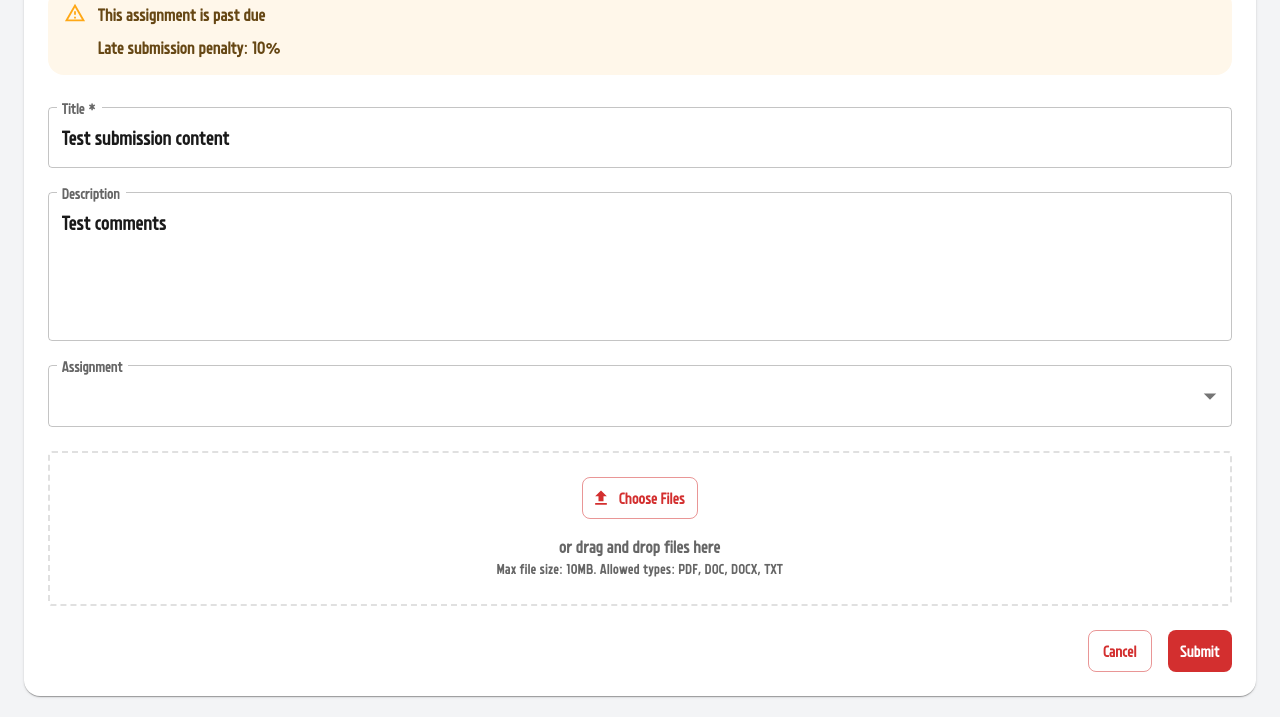
Test case: SubmissionForm › displays error message when submission fails
This screenshot has width=1280, height=717.
(page scrolled)
# Simulate an error
What coordinates should you click on to do the following:
click the button "Submit"
I would click on:
 (1200, 651)
Its box is [1168,630,1232,672].
(page scrolled)
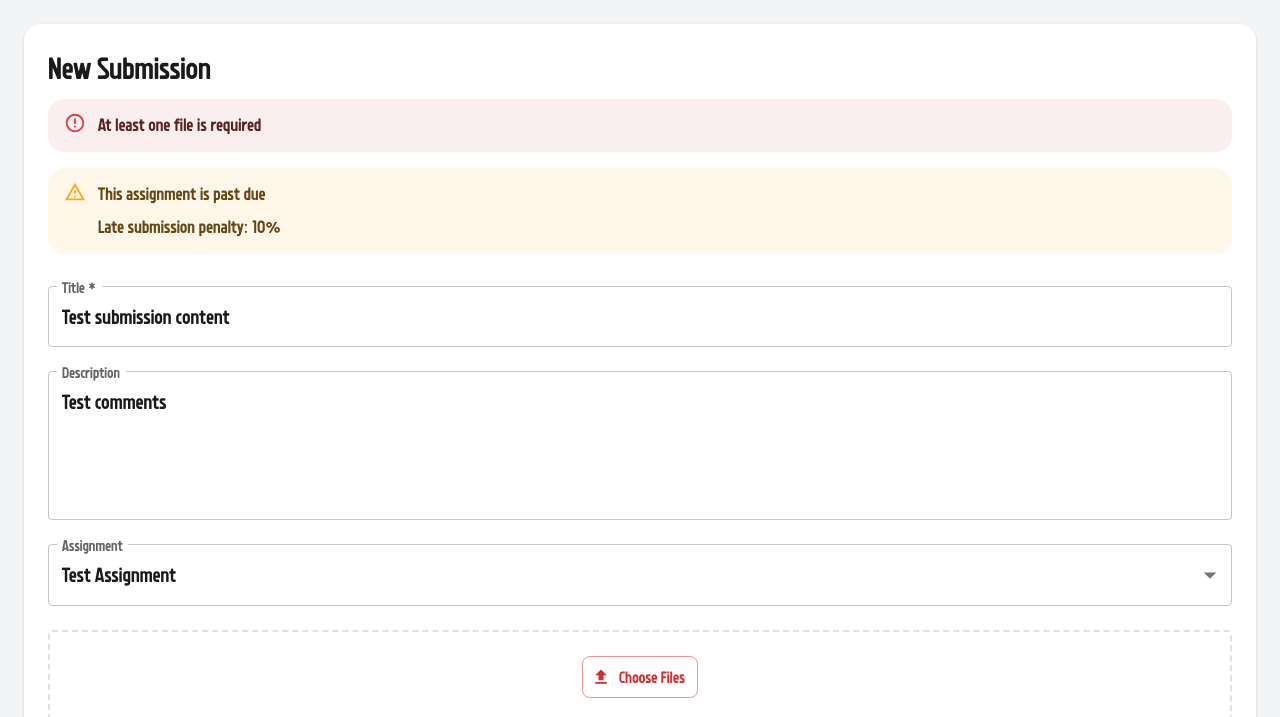
Check: the message with test id "error-alert" reads "At least one file is required", box [98,114,262,134]
